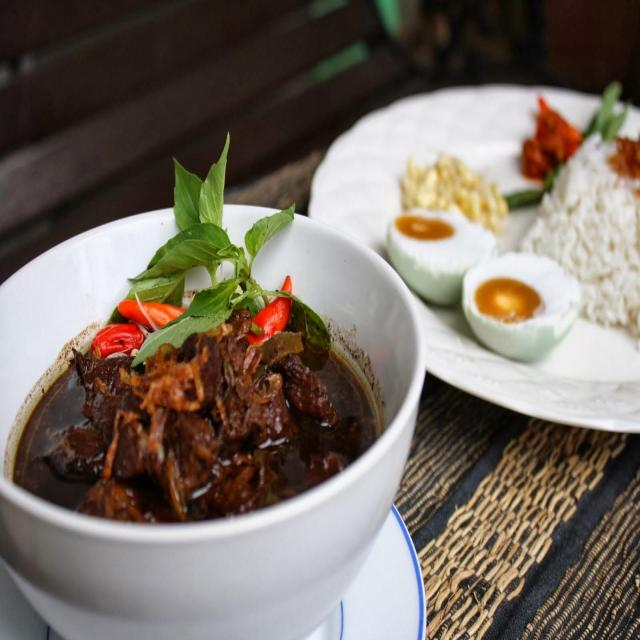Rawon: (26, 276, 373, 516)
